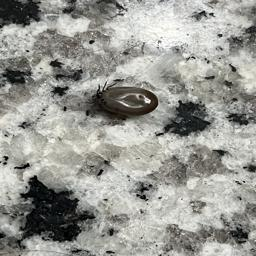Ixodes scapularis: (85, 85, 159, 114)
